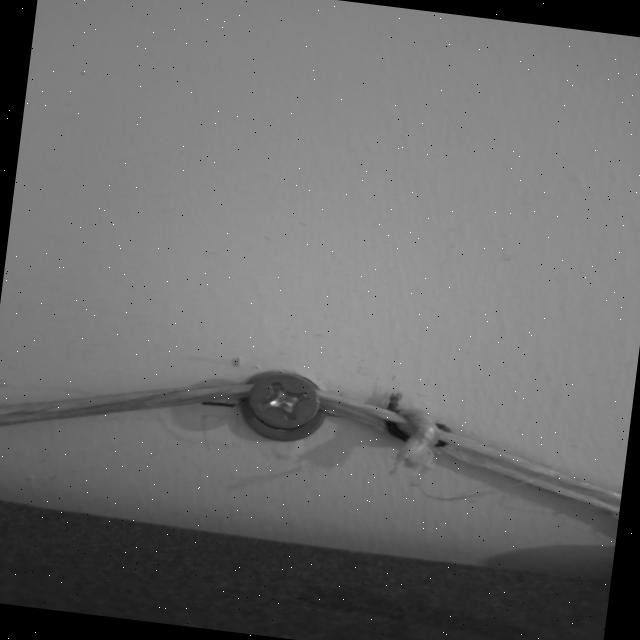Phillips: (244, 372, 317, 428)
